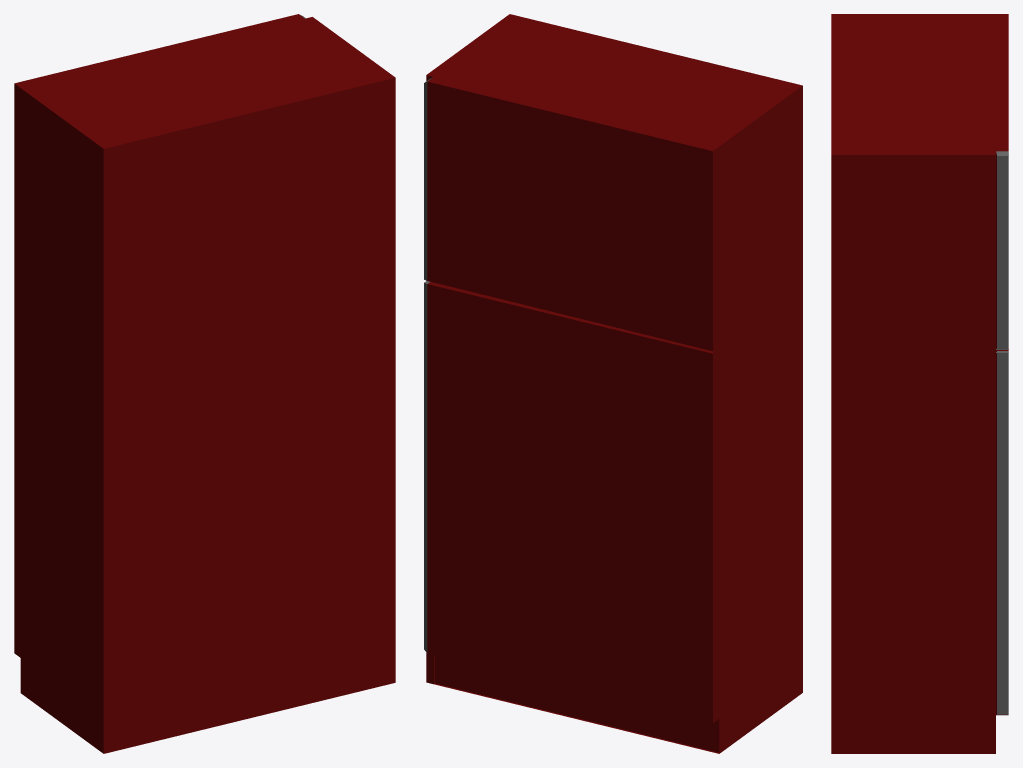
The model's file is geladeira.FBX.
3 renders of one model, left to right at view 1: azimuth 30°, elevation 25°; view 2: azimuth 150°, elevation 25°; view 3: azimuth 270°, elevation 25°, orthographic.
Visible parts, largest first — view 1: Box001; view 2: Box001; view 3: Box001.
Boxes of the visible parts, x1=… form: Box001: x1=14, y1=14, x2=395, y2=753; Box001: x1=424, y1=14, x2=802, y2=753; Box001: x1=831, y1=14, x2=1008, y2=753.
Bounding box in the file's own units: 63.43 × 126 × 33.68.
